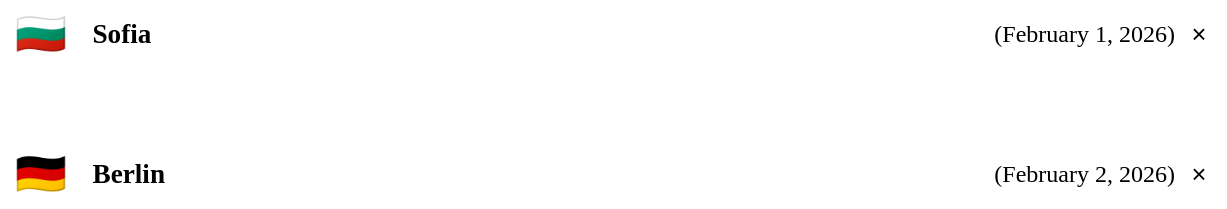
Test: cities delete flow integration › deletes a city from UI and updates localStorage
The image size is (1227, 209).
Expected: the heading "Sofia" is shown, [92,19,151,50]
Expected: the heading "Berlin" is shown, [92,159,165,190]
Click the button named "Delete Sofia": (1199, 35) [1183,19,1215,51]
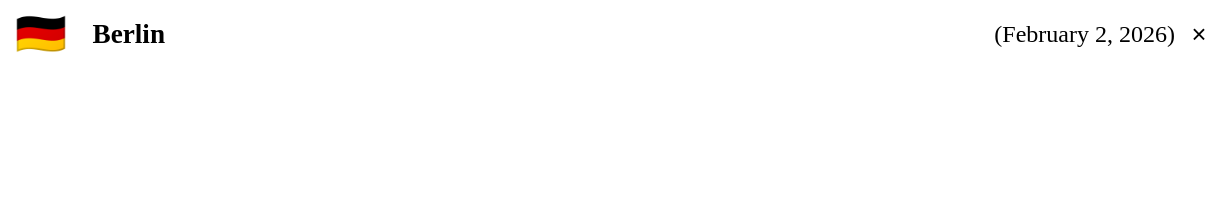
Expected: the heading "Berlin" is shown, [92,19,165,50]
Result: the link "Sofia" is gone
